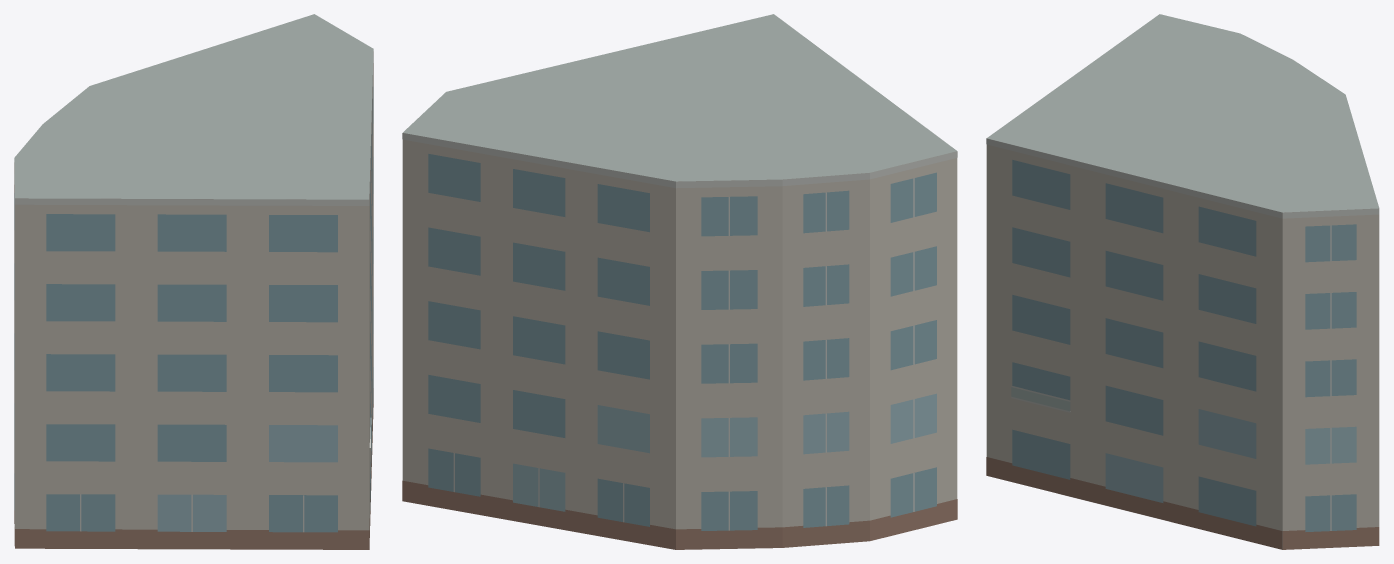
File: survey-upis-32840399.glb
3 renders of one model, left to right at view 1: azimuth 30°, elevation 25°; view 2: azimuth 150°, elevation 25°; view 3: azimuth 270°, elevation 25°, orthographic. The views are drawn at different scales.
Parts seen in each view (by area): view 1: survey-upis-32840399.tmp; view 2: survey-upis-32840399.tmp; view 3: survey-upis-32840399.tmp.
Part boxes in pixels (x1=…): survey-upis-32840399.tmp: x1=14, y1=14, x2=373, y2=549; survey-upis-32840399.tmp: x1=402, y1=14, x2=957, y2=549; survey-upis-32840399.tmp: x1=986, y1=14, x2=1379, y2=549.
Bounding box in the file's own units: 17.01 × 13.47 × 14.23.
